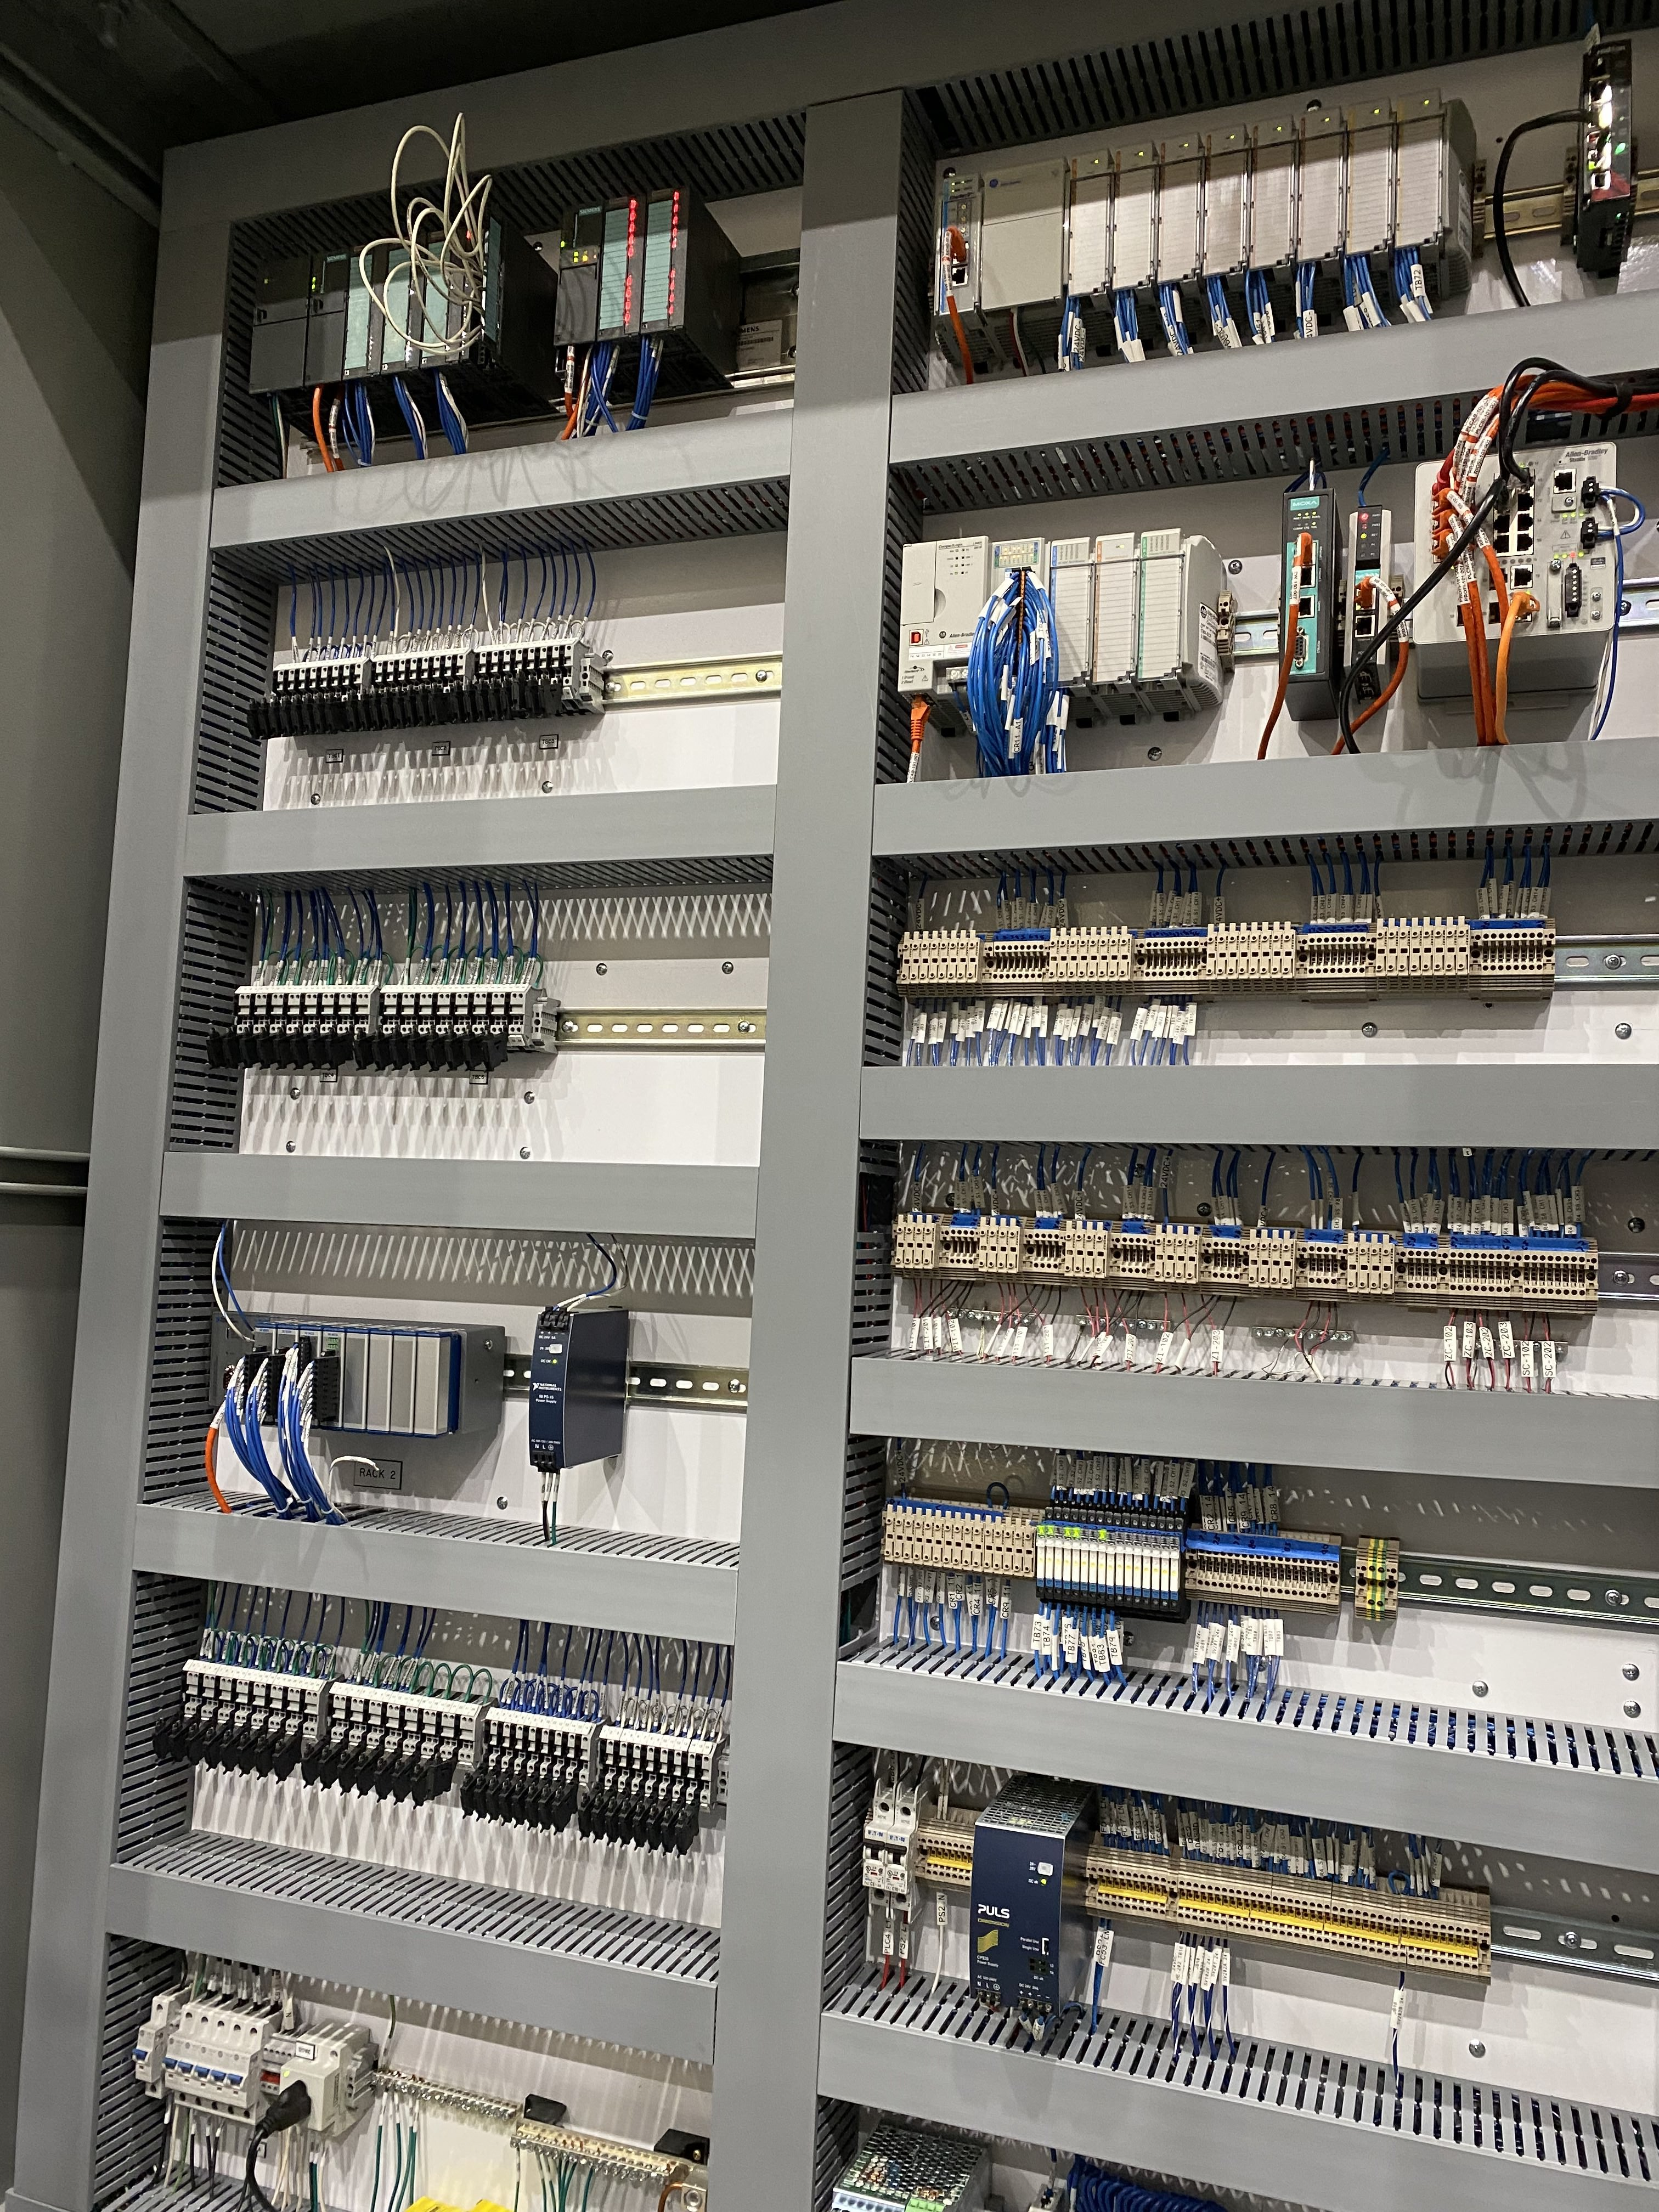AllenBradley: (894, 533, 992, 697)
Siemens: (298, 242, 354, 390)
